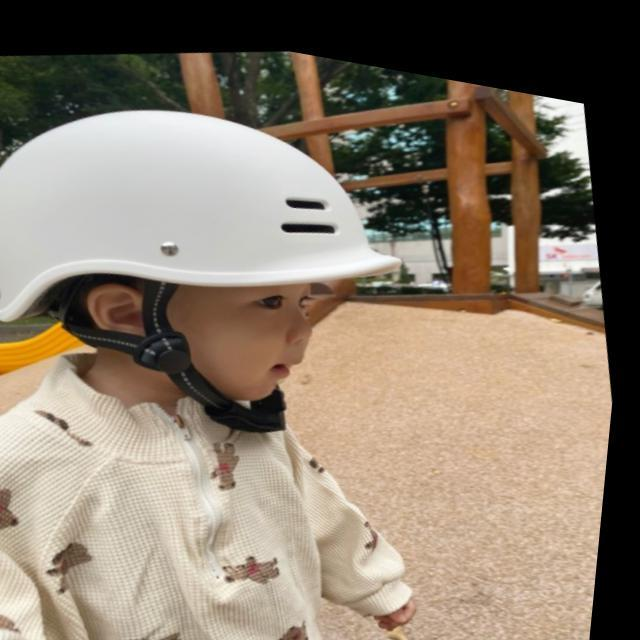Helmet: (0, 105, 420, 439)
